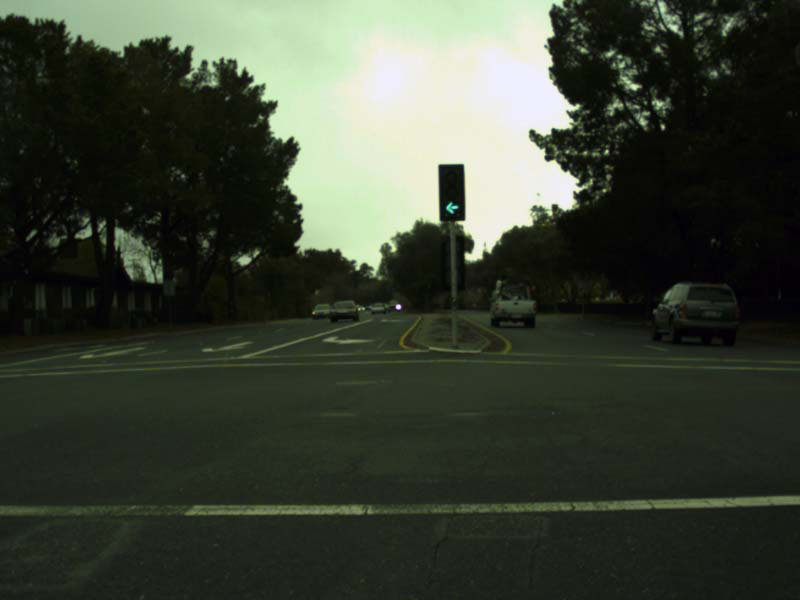Green: (438, 164, 463, 219)
